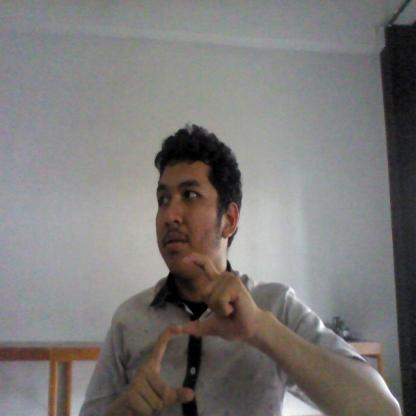S: (126, 242, 262, 416)
